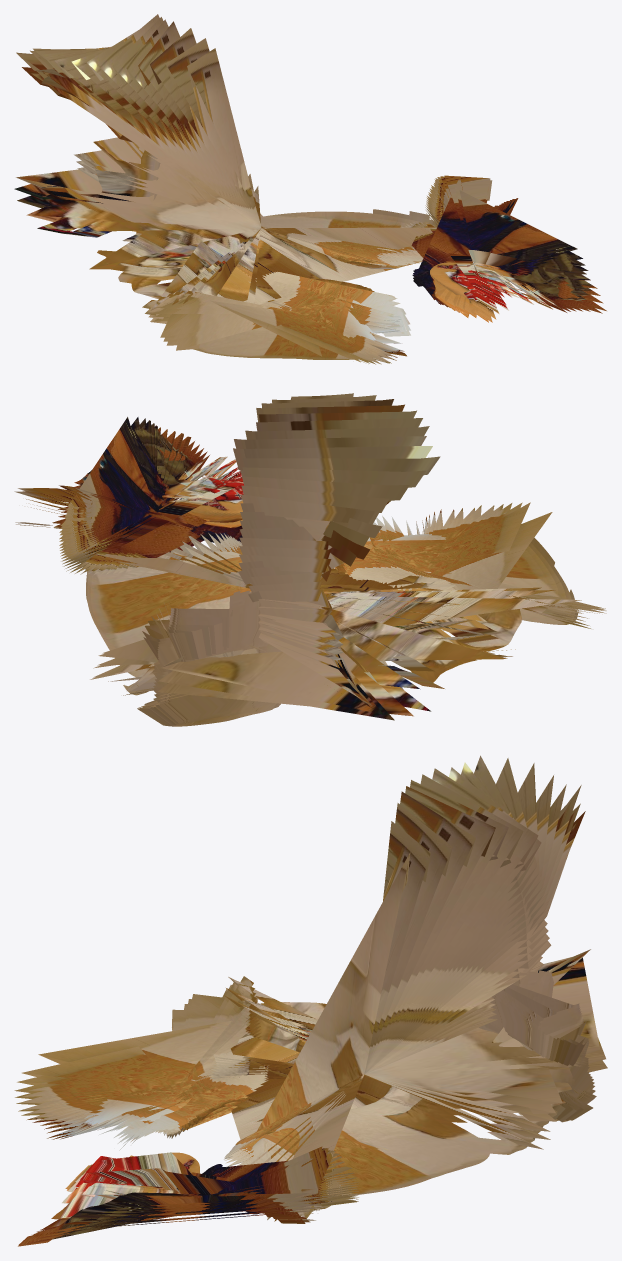
The model's file is cabin.glb.
The picture shows the model from 3 angles, top to bottom: view 1: azimuth 30°, elevation 25°; view 2: azimuth 150°, elevation 25°; view 3: azimuth 270°, elevation 25°; orthographic projection. The views are drawn at different scales.
Visible parts, largest first — view 1: furniture_00, furniture_02, furniture_01; view 2: furniture_00, furniture_02, furniture_01, furniture_03; view 3: furniture_00, furniture_01, furniture_02, furniture_03.
Boxes of the visible parts, x1,y1,x2,y2 form: furniture_00: [14, 14, 436, 310]; furniture_02: [401, 175, 606, 322]; furniture_01: [142, 271, 410, 364]; furniture_00: [80, 393, 581, 720]; furniture_02: [14, 417, 243, 574]; furniture_01: [335, 502, 606, 628]; furniture_03: [137, 590, 298, 726]; furniture_00: [210, 755, 607, 1221]; furniture_01: [14, 976, 268, 1150]; furniture_02: [18, 1146, 358, 1246]; furniture_03: [479, 970, 596, 1122].
Bounding box in the file's own units: 3.78 × 2.05 × 3.96.
4 materials, 4 textured.
